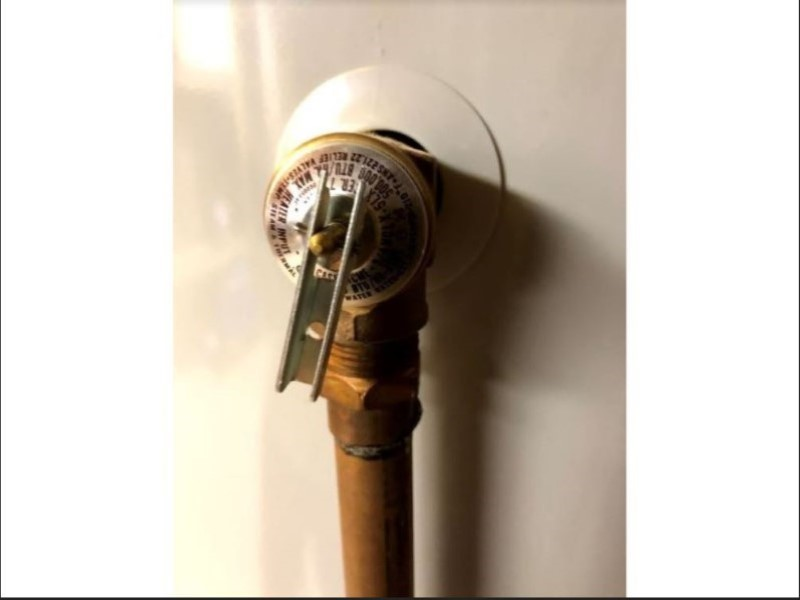Valve: (263, 130, 433, 415)
